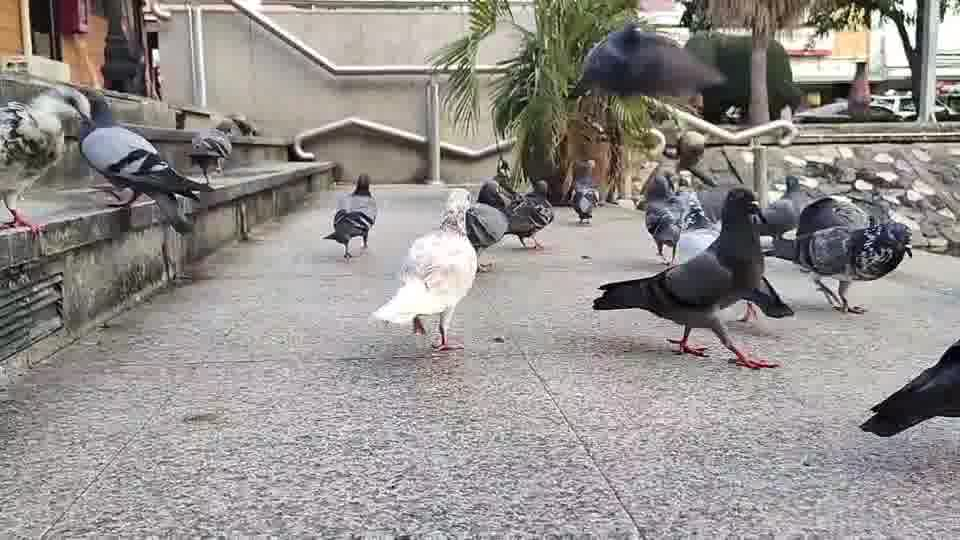Pigeon: (591, 186, 794, 369), (74, 86, 213, 235), (370, 187, 478, 351), (794, 193, 913, 314), (858, 337, 959, 437), (0, 94, 65, 238), (639, 169, 710, 265), (476, 176, 554, 249), (320, 173, 377, 260), (184, 127, 232, 184), (565, 158, 600, 224), (214, 111, 257, 137)
